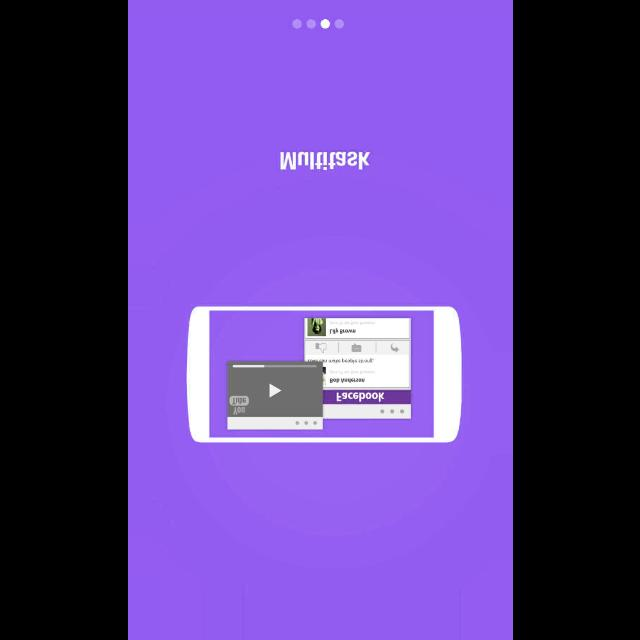image: (186, 306, 462, 442)
pageindicator: (292, 18, 344, 30)
text: (279, 152, 369, 170)
